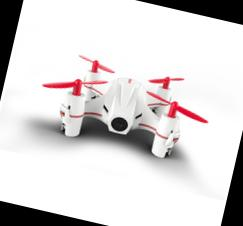drone: (24, 43, 212, 171)
